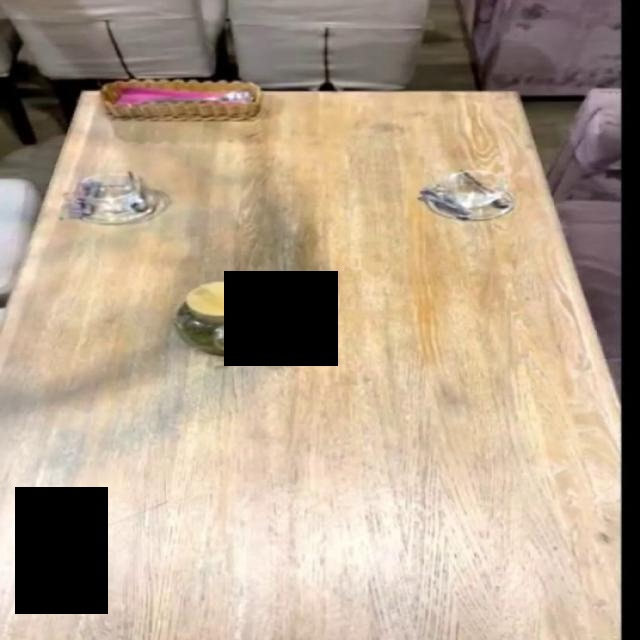tea: (160, 281, 265, 373)
